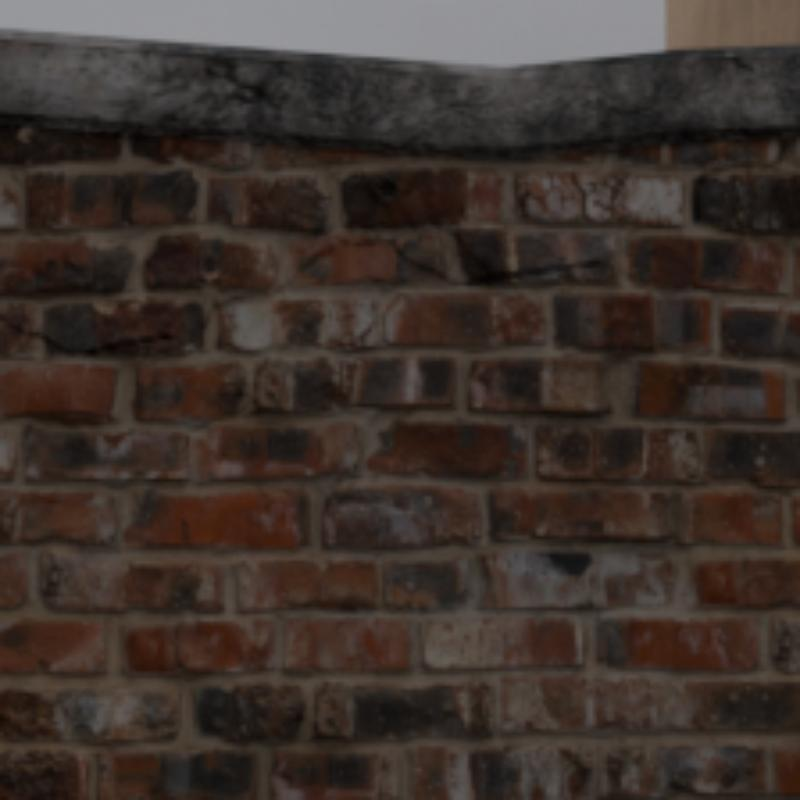pothole: (0, 136, 789, 354), (579, 186, 589, 221), (355, 326, 373, 344), (571, 171, 579, 186), (175, 629, 179, 654)
